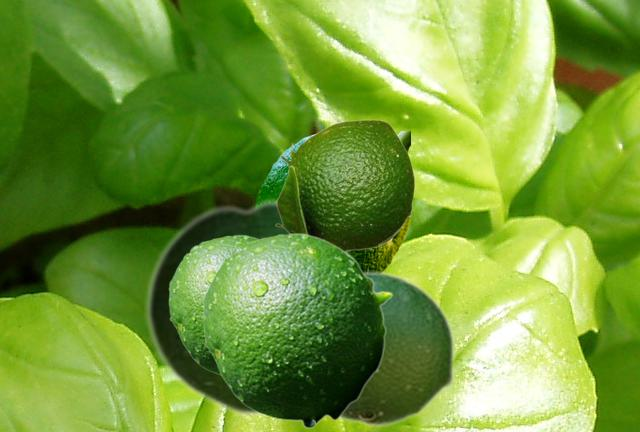dalandan: (144, 196, 361, 418), (202, 232, 392, 428), (255, 131, 409, 270), (337, 270, 455, 427), (274, 119, 414, 251), (168, 234, 258, 375)
